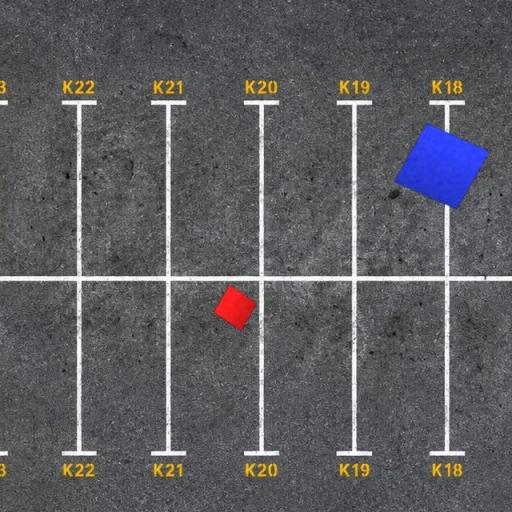BLUE_SQUARE: (394, 122, 490, 210)
RED_SQUARE: (212, 285, 258, 331)
